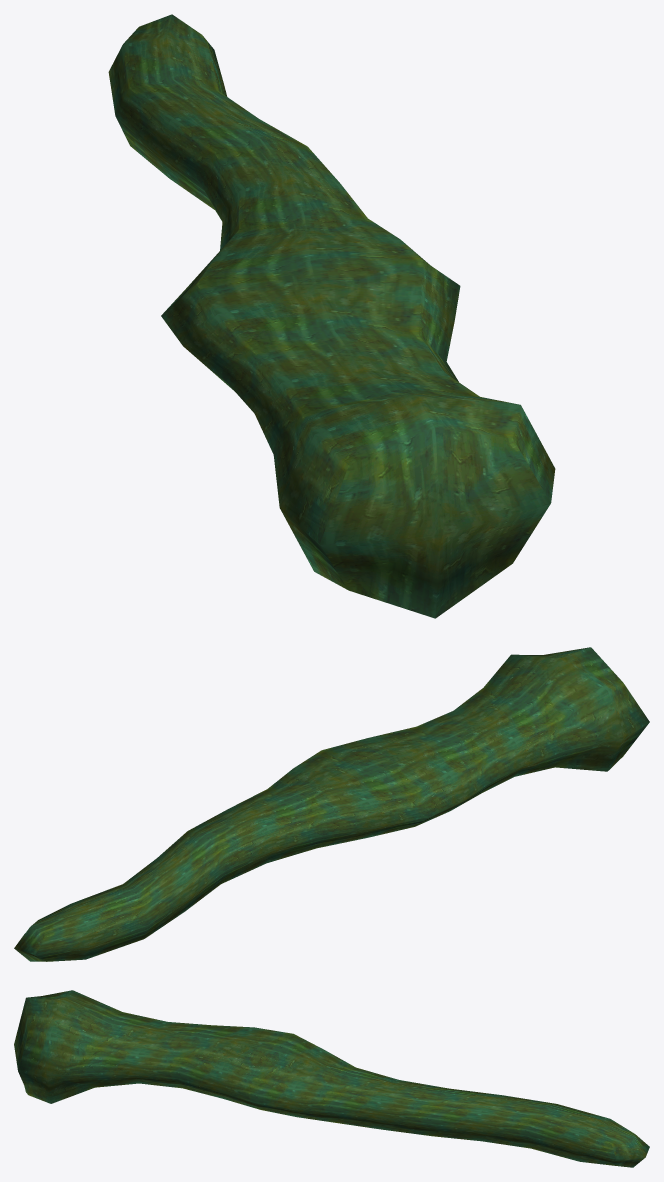
Rendered from MIRKWOOD_MIRK_PLAYSURFACE220.fbx.
3 views of the same model, one above another, from view 1: azimuth 30°, elevation 25°; view 2: azimuth 150°, elevation 25°; view 3: azimuth 270°, elevation 25° (orthographic). The views are drawn at different scales.
Visible parts, largest first — view 1: MIRKWOOD_MIRK_PLAYSURFACE220; view 2: MIRKWOOD_MIRK_PLAYSURFACE220; view 3: MIRKWOOD_MIRK_PLAYSURFACE220.
Part boxes in pixels (<box>): MIRKWOOD_MIRK_PLAYSURFACE220: <box>108,14,555,618</box>; MIRKWOOD_MIRK_PLAYSURFACE220: <box>14,647,649,961</box>; MIRKWOOD_MIRK_PLAYSURFACE220: <box>14,990,649,1167</box>.
Bounding box in the file's own units: 43219 × 16563 × 99809.
1 material, 1 textured.
